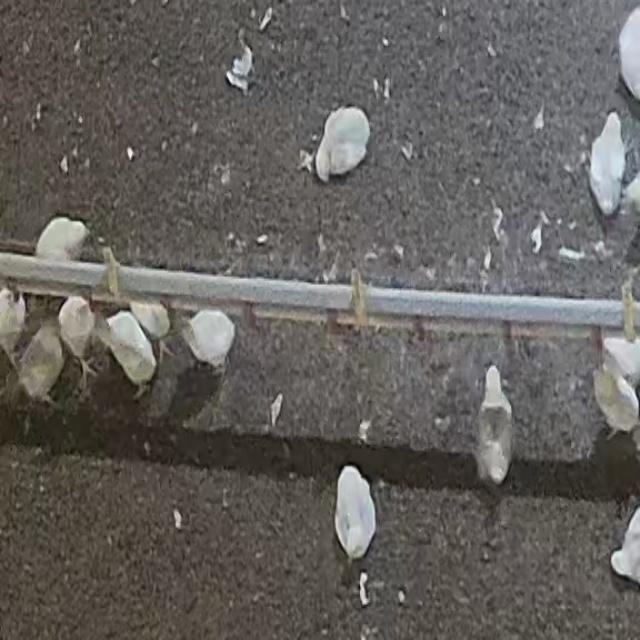chicken: (300, 103, 374, 185), (475, 364, 516, 486), (223, 7, 278, 97), (100, 311, 156, 398), (15, 320, 66, 408), (333, 464, 378, 560), (57, 295, 101, 386), (180, 306, 239, 372), (588, 110, 624, 214), (593, 364, 638, 437), (33, 215, 91, 264), (129, 296, 176, 356), (611, 505, 640, 588), (0, 288, 28, 368), (601, 334, 640, 388)
